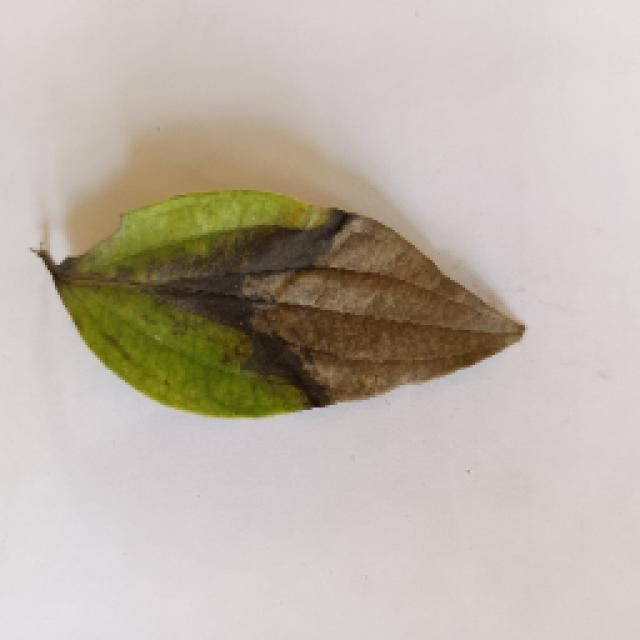footrot: (28, 170, 530, 418)
